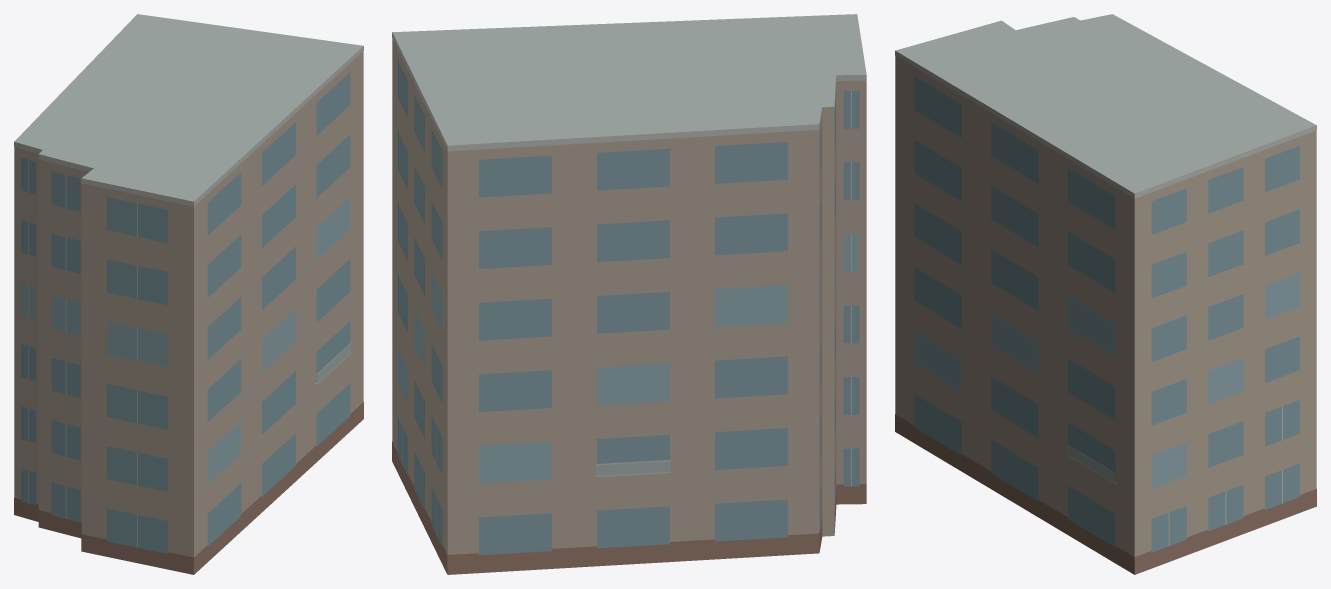
The model's file is survey-upis-32722418.glb.
3 renders of one model, left to right at view 1: azimuth 30°, elevation 25°; view 2: azimuth 150°, elevation 25°; view 3: azimuth 270°, elevation 25°, orthographic. The views are drawn at different scales.
Parts seen in each view (by area): view 1: survey-upis-32722418.tmp; view 2: survey-upis-32722418.tmp; view 3: survey-upis-32722418.tmp.
Part boxes in pixels (<box>): survey-upis-32722418.tmp: <box>14,14,363,574</box>; survey-upis-32722418.tmp: <box>392,14,866,574</box>; survey-upis-32722418.tmp: <box>895,14,1316,574</box>.
Bounding box in the file's own units: 18.51 × 18.3 × 18.35.
